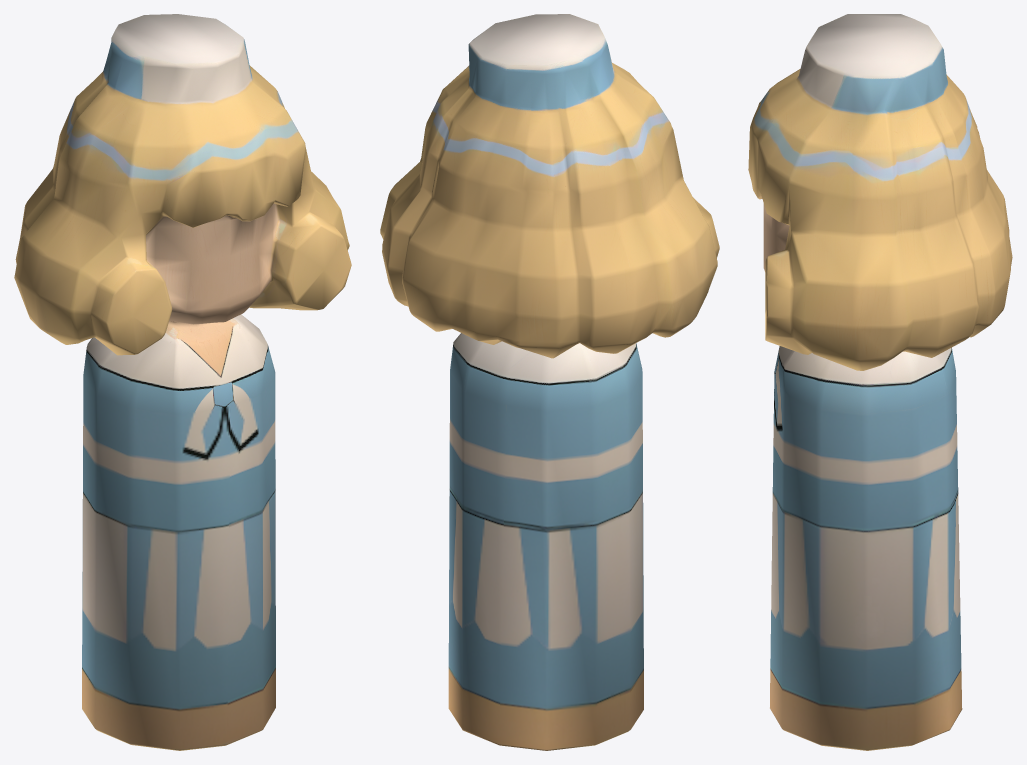
File: Meshy_AI_Pastel_Geometric_Doll_0425081818_texture.fbx
3 renders of one model, left to right at view 1: azimuth 30°, elevation 25°; view 2: azimuth 150°, elevation 25°; view 3: azimuth 270°, elevation 25°, orthographic.
Visible parts, largest first — view 1: Mesh_0; view 2: Mesh_0; view 3: Mesh_0.
Boxes of the visible parts, x1,y1,x2,y2 form: Mesh_0: (14, 14, 351, 750); Mesh_0: (380, 14, 719, 750); Mesh_0: (748, 14, 1012, 750).
Bounding box in the file's own units: 87.28 × 191 × 67.71.
1 material, 1 textured.
